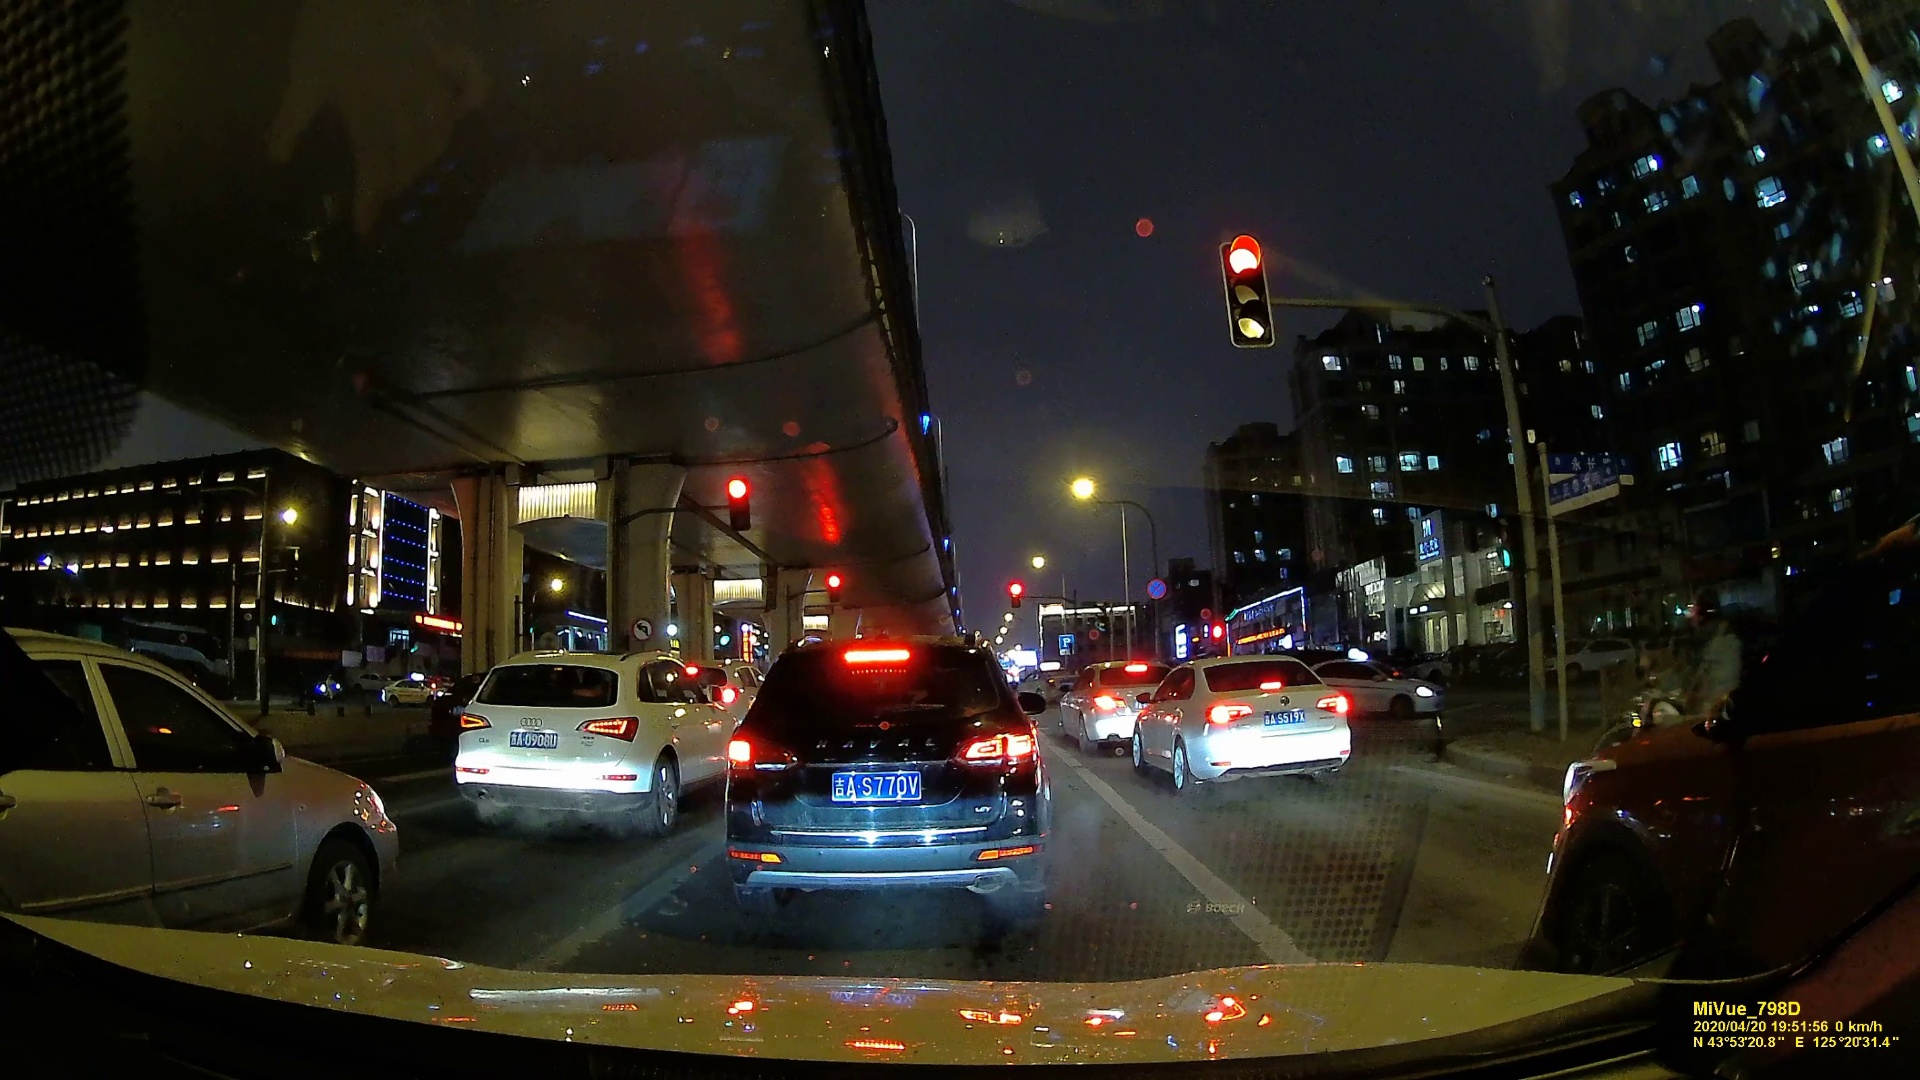traffic_sign: (1222, 240, 1269, 348), (1545, 465, 1621, 508), (1486, 498, 1523, 574), (723, 473, 749, 526), (1145, 576, 1168, 605), (824, 572, 843, 601), (1007, 582, 1023, 613), (1056, 632, 1077, 655), (632, 615, 653, 638)
vehicle: (1, 626, 401, 936), (727, 640, 1040, 924), (448, 649, 731, 836), (1130, 653, 1360, 794), (1299, 653, 1448, 720), (1059, 659, 1159, 756)
